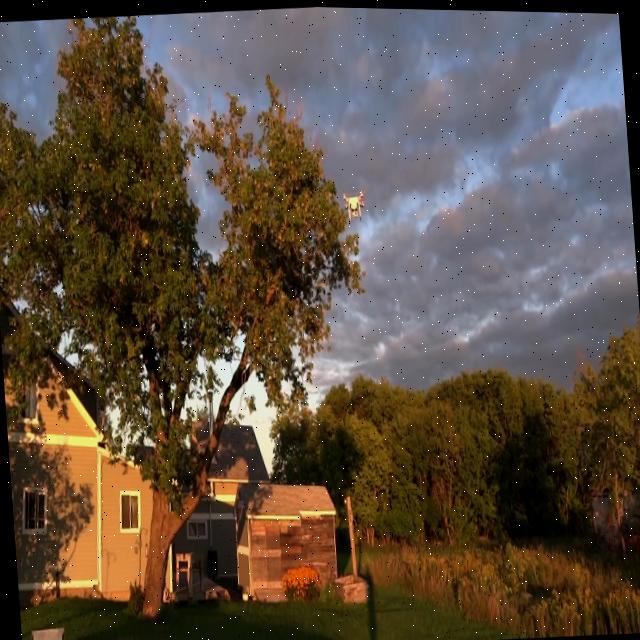drone: (340, 185, 366, 218)
